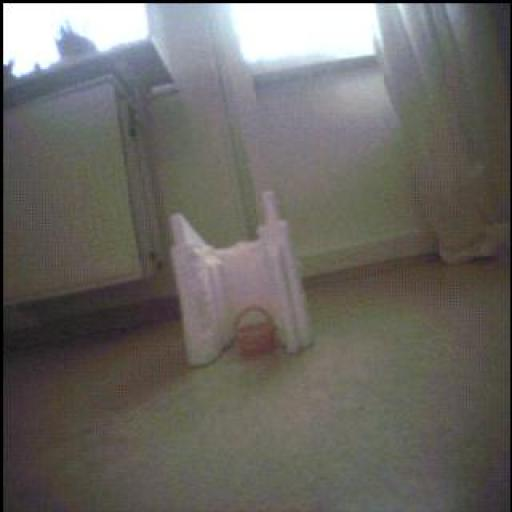Basket: (235, 307, 276, 358)
